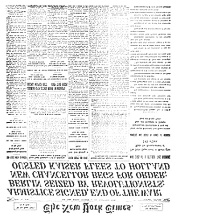news_paper: (0, 0, 173, 220)
